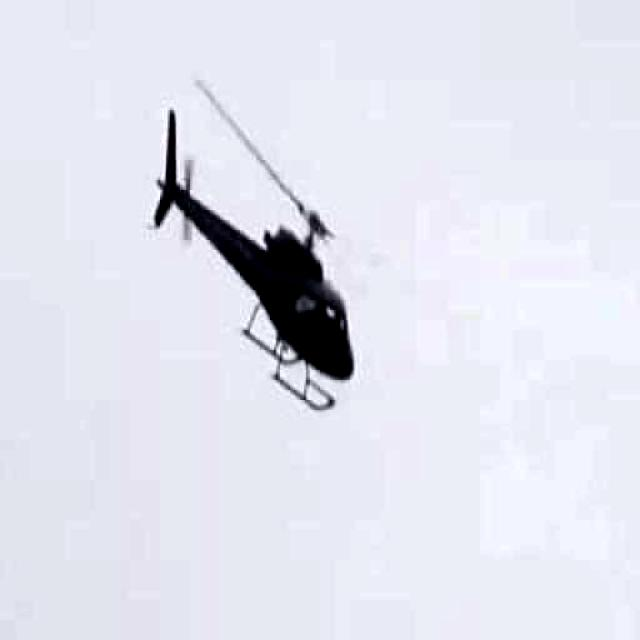drone: (120, 90, 406, 446)
